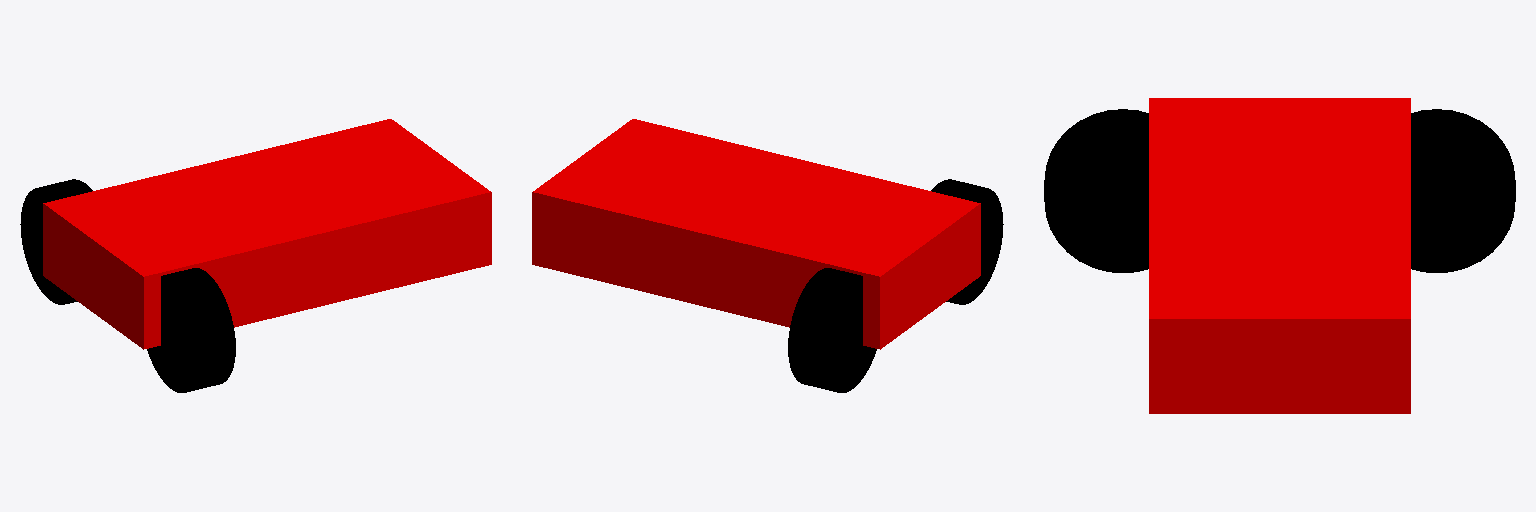
The robot description file, URDF, robot "test_robot":
<?xml version="1.0"?>
<robot name="test_robot">
  <!-- Глобальные фреймы -->
  <link name="odom"/>
  <link name="base_link"/>
  
  <joint name="odom_to_base" type="fixed">
    <parent link="odom"/>
    <child link="base_link"/>
  </joint>

  <!-- Шасси -->
  <link name="chassis">
    <visual>
      <geometry>
        <box size="1.0 0.5 0.2"/>
      </geometry>
      <material name="Red">
        <color rgba="1 0 0 1"/>
      </material>
    </visual>
    <collision>
      <geometry>
        <box size="1.0 0.5 0.2"/>
      </geometry>
    </collision>
    <inertial>
      <mass value="5.0"/>
      <inertia ixx="1.0" ixy="0" ixz="0" iyy="1.0" iyz="0" izz="1.0"/>
    </inertial>
  </link>

  <joint name="base_to_chassis" type="fixed">
    <parent link="base_link"/>
    <child link="chassis"/>
    <origin xyz="0 0 0.1"/>
  </joint>

  <!-- Левое колесо -->
  <link name="left_wheel">
    <visual>
      <geometry>
        <cylinder radius="0.15" length="0.1"/>
      </geometry>
      <origin xyz="0 0 0" rpy="0 1.5708 0"/>
      <material name="Black">
        <color rgba="0 0 0 1"/>
      </material>
    </visual>
    <collision>
      <geometry>
        <cylinder radius="0.15" length="0.1"/>
      </geometry>
      <origin xyz="0 0 0" rpy="0 1.5708 0"/>
    </collision>
    <inertial>
      <mass value="1.0"/>
      <inertia ixx="0.01" ixy="0" ixz="0" iyy="0.01" iyz="0" izz="0.01"/>
    </inertial>
  </link>

  <joint name="left_wheel_joint" type="continuous">
    <parent link="chassis"/>
    <child link="left_wheel"/>
    <origin xyz="-0.4 0.3 -0.05"/>
    <axis xyz="0 1 0"/>
    <limit effort="100" velocity="10"/>
  </joint>

  <!-- Правое колесо -->
  <link name="right_wheel">
    <visual>
      <geometry>
        <cylinder radius="0.15" length="0.1"/>
      </geometry>
      <origin xyz="0 0 0" rpy="0 1.5708 0"/>
      <material name="Black"/>
    </visual>
    <collision>
      <geometry>
        <cylinder radius="0.15" length="0.1"/>
      </geometry>
      <origin xyz="0 0 0" rpy="0 1.5708 0"/>
    </collision>
    <inertial>
      <mass value="1.0"/>
      <inertia ixx="0.01" ixy="0" ixz="0" iyy="0.01" iyz="0" izz="0.01"/>
    </inertial>
  </link>

  <joint name="right_wheel_joint" type="continuous">
    <parent link="chassis"/>
    <child link="right_wheel"/>
    <origin xyz="-0.4 -0.3 -0.05"/>
    <axis xyz="0 1 0"/>
    <limit effort="100" velocity="10"/>
  </joint>

  <!-- GAZEBO ПЛАГИНЫ -->
  <gazebo>
    <plugin name="diff_drive" filename="libgazebo_ros_diff_drive.so">
      <left_joint>left_wheel_joint</left_joint>
      <right_joint>right_wheel_joint</right_joint>
      <wheel_separation>0.6</wheel_separation>
      <wheel_diameter>0.3</wheel_diameter>
      <max_wheel_torque>100</max_wheel_torque>
      <max_wheel_acceleration>2.0</max_wheel_acceleration>
      <command_topic>cmd_vel</command_topic>
      <odometry_topic>odom</odometry_topic>
      <odometry_frame>odom</odometry_frame>
      <robot_base_frame>base_link</robot_base_frame>
      <publish_odom>true</publish_odom>
      <publish_odom_tf>true</publish_odom_tf>
      <update_rate>50.0</update_rate>
    </plugin>
  </gazebo>

  <gazebo>
    <plugin name="joint_state" filename="libgazebo_ros_joint_state_publisher.so">
      <joint_name>left_wheel_joint</joint_name>
      <joint_name>right_wheel_joint</joint_name>
    </plugin>
  </gazebo>
</robot>

--- Render facts (derived) ---
The picture shows the robot from 3 angles, left to right: view 1: azimuth 30°, elevation 25°; view 2: azimuth 150°, elevation 25°; view 3: azimuth 270°, elevation 25°; orthographic projection.
Model test_robot with 5 links and 4 joints (2 continuous, 2 fixed), rooted at odom, posed every joint at zero.
Links seen in each view (by area): view 1: chassis, right_wheel, left_wheel; view 2: chassis, left_wheel, right_wheel; view 3: chassis, left_wheel, right_wheel.
Boxes of the visible links, box(x1,y1,x2,y2) form: chassis: box(43, 119, 491, 349); right_wheel: box(147, 268, 235, 392); left_wheel: box(20, 179, 92, 304); chassis: box(532, 119, 980, 349); left_wheel: box(788, 268, 876, 392); right_wheel: box(931, 179, 1003, 304); chassis: box(1149, 98, 1410, 413); left_wheel: box(1411, 109, 1515, 272); right_wheel: box(1044, 109, 1148, 272).
Bounding box of the posed robot: 1 × 0.9 × 0.3 m (x, y, z).
Geometry: primitives only (box / cylinder / sphere), no mesh files.
